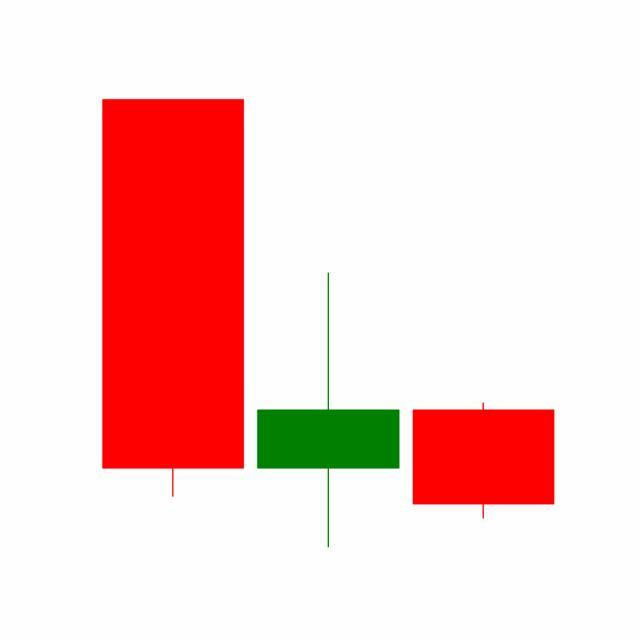Spinning Top: (250, 270, 407, 551)
